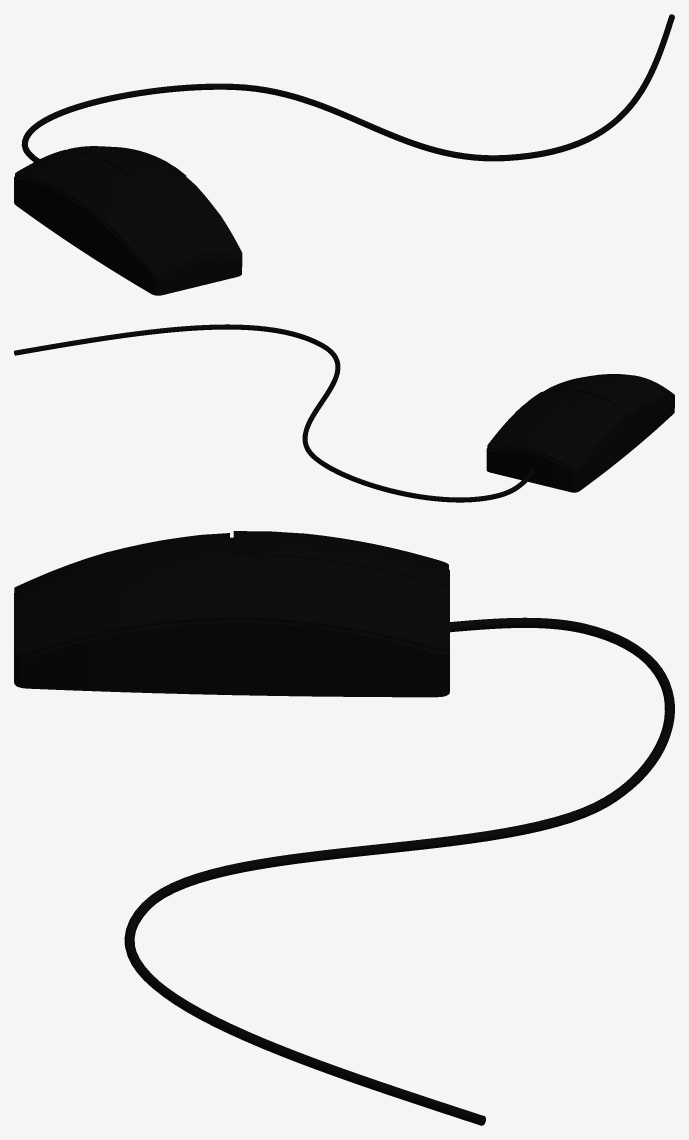
Rendered from mouse.FBX.
The picture shows the model from 3 angles, top to bottom: view 1: azimuth 30°, elevation 25°; view 2: azimuth 150°, elevation 25°; view 3: azimuth 270°, elevation 25°; orthographic projection. The views are drawn at different scales.
Visible parts, largest first — view 1: mouse; view 2: mouse; view 3: mouse.
Boxes of the visible parts, x1,y1,x2,y2 form: mouse: (14,14,674,295); mouse: (14,324,674,502); mouse: (14,531,674,1125).
Bounding box in the file's own units: 125 × 10.89 × 65.06.
Materials: 1 (1 with a texture image).
